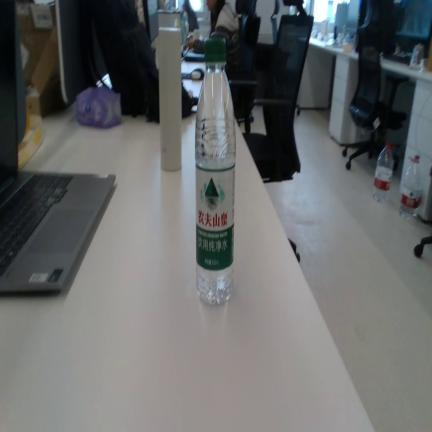bottle: (195, 37, 236, 305), (400, 154, 423, 218), (373, 143, 393, 202)
